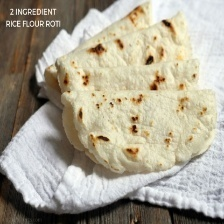roti: (46, 2, 214, 171)
